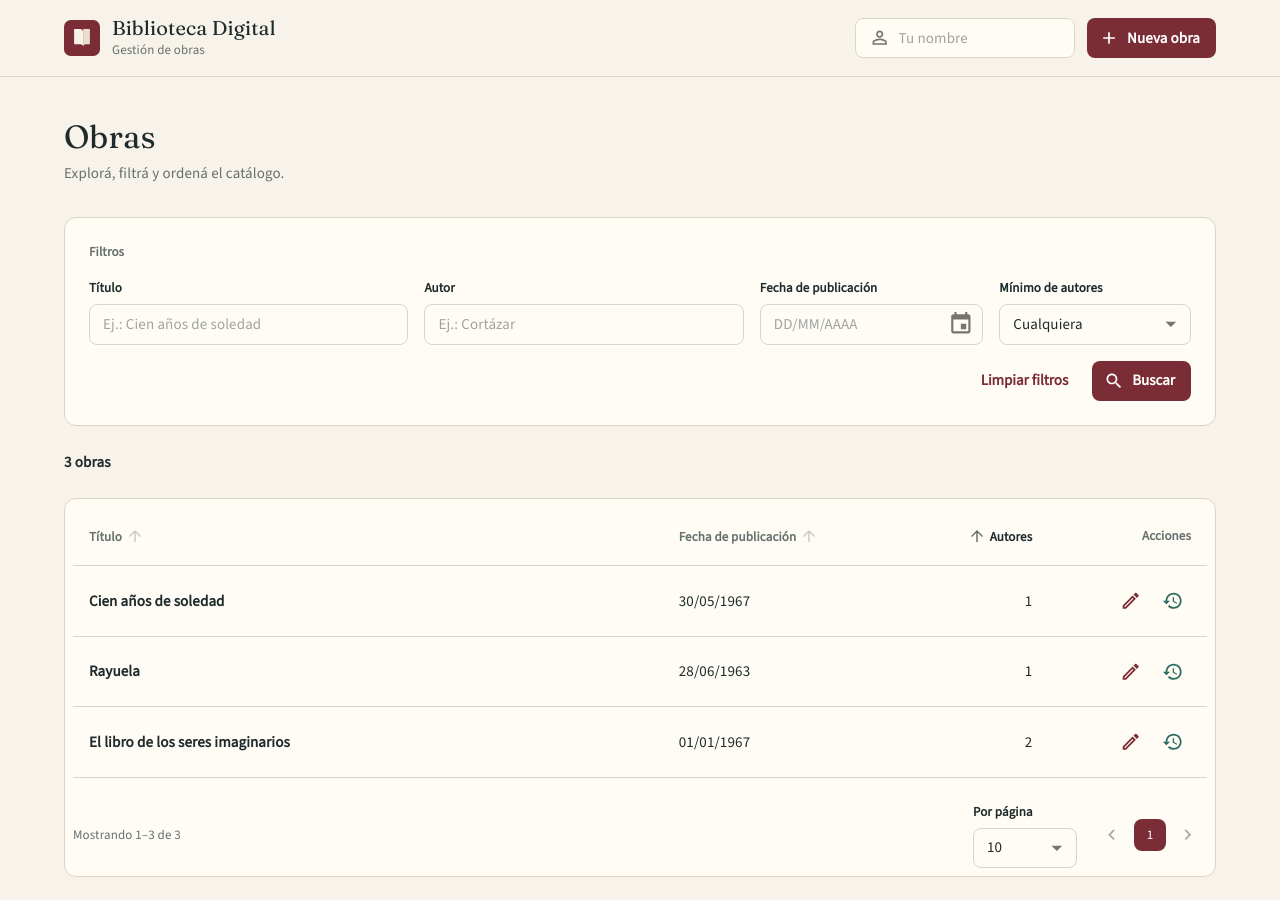
Test: Listado de obras › aplica el filtro de título con debounce y vuelve a la página 1
The image size is (1280, 900).
Type "rayuela" into the field labelled "Título" at (249, 324), box left=89, top=304, right=408, bottom=345
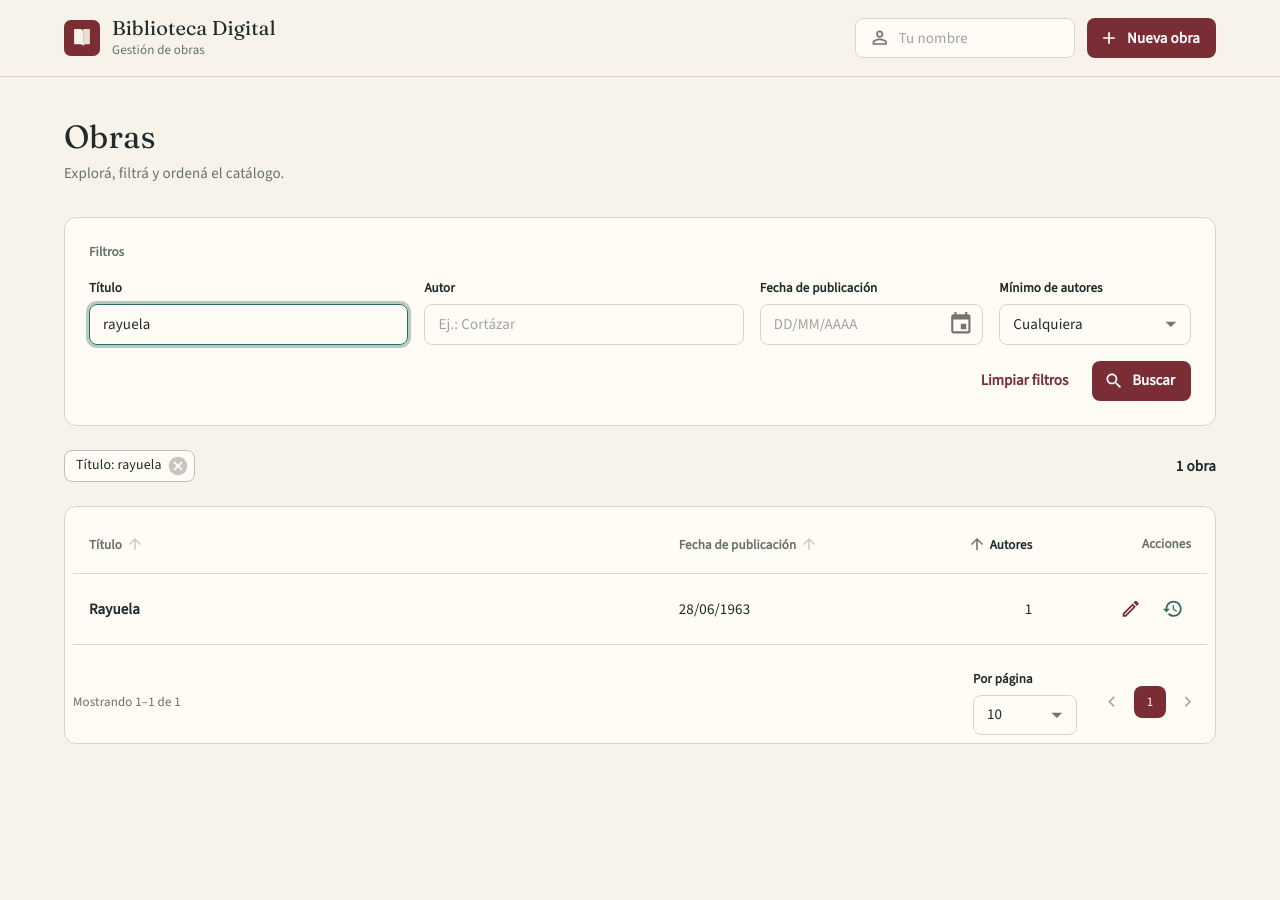
Now the message reads "1 obra", box left=1176, top=456, right=1216, bottom=476
